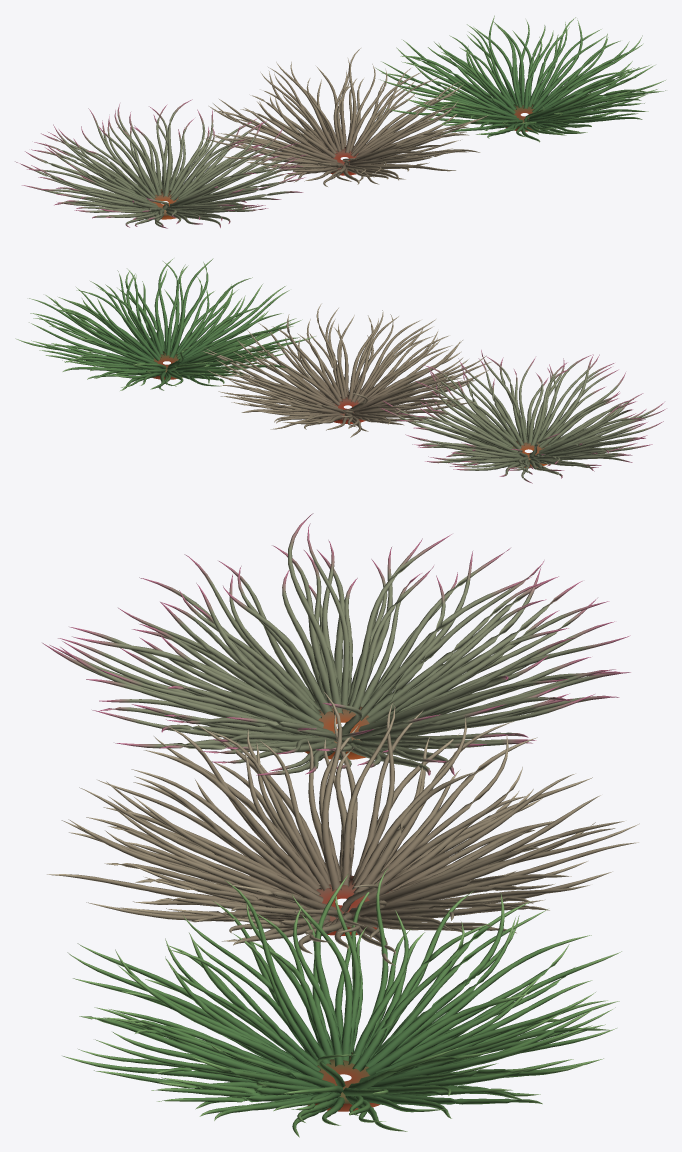
3 views of the same model, one above another, from view 1: azimuth 30°, elevation 25°; view 2: azimuth 150°, elevation 25°; view 3: azimuth 270°, elevation 25° (orthographic). The views are drawn at different scales.
Parts seen in each view (by area): view 1: long-tentacle-anemone, long-tentacle-anemone.002, long-tentacle-anemone.001; view 2: long-tentacle-anemone.002, long-tentacle-anemone.001, long-tentacle-anemone; view 3: long-tentacle-anemone.002, long-tentacle-anemone, long-tentacle-anemone.001.
Boxes of the visible parts, x1,y1,x2,y2 form: long-tentacle-anemone: [15, 99, 305, 228]; long-tentacle-anemone.002: [375, 15, 665, 142]; long-tentacle-anemone.001: [202, 48, 488, 186]; long-tentacle-anemone.002: [15, 258, 315, 390]; long-tentacle-anemone.001: [201, 303, 492, 437]; long-tentacle-anemone: [380, 350, 666, 483]; long-tentacle-anemone.002: [63, 868, 621, 1137]; long-tentacle-anemone: [42, 513, 630, 775]; long-tentacle-anemone.001: [47, 690, 639, 965].
Size of the model in its own units: 10.22 by 1.08 by 4.33.
